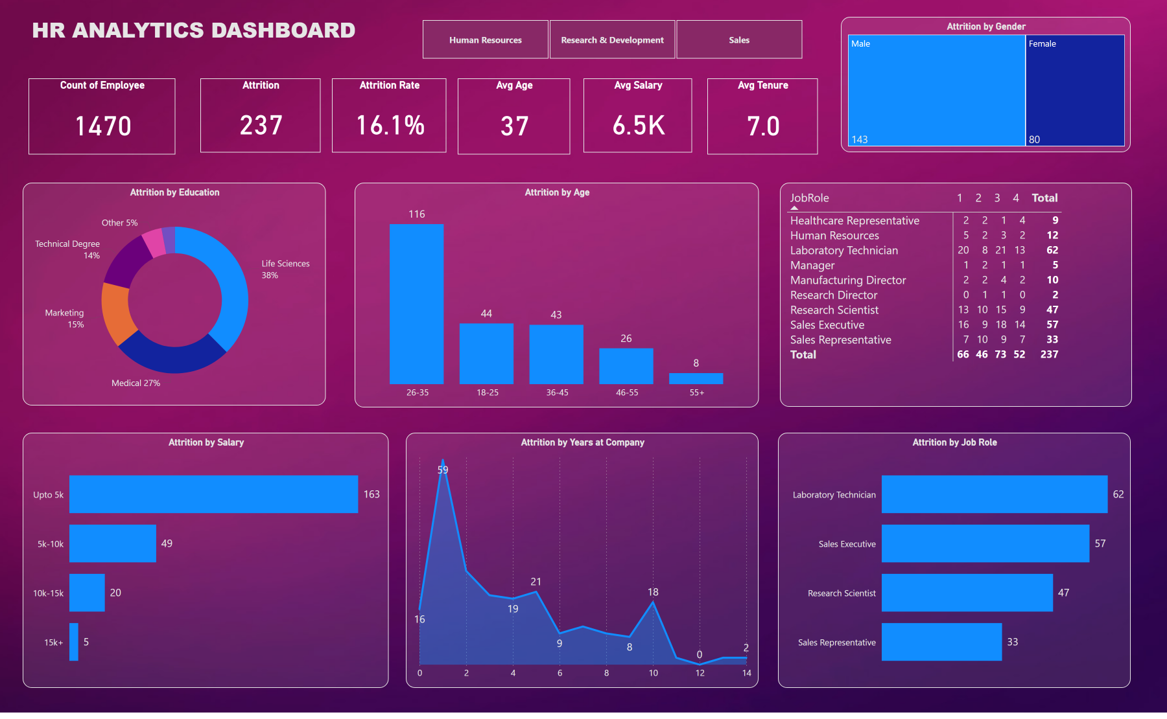

Layout of this report page (visuals, bound fields, positions):
{"tool":"powerbi","page":{"name":"Page 1","canvas":[1800,1100],"ordinal":0},"visuals":[{"type":"card","title":"Count of Employee","fields":{"Values":["CountNonNull(HR_Analytics.EmpID)"]},"box":[44.1,120.6,226.5,117.6],"z":0},{"type":"card","title":"Attrition","fields":{"Values":["Sum(HR_Analytics.AttritionCount)"]},"box":[308.8,120.6,185.3,114.7],"z":1000},{"type":"card","title":"Avg Age","fields":{"Values":["Avg(HR_Analytics.Age)"]},"box":[705.9,120.6,173.5,117.6],"z":2000},{"type":"card","title":"Attrition Rate","fields":{"Values":["HR_Analytics.Attrition rate"]},"box":[511.8,120.6,176.5,114.7],"z":3000},{"type":"card","title":"Avg Salary","fields":{"Values":["Avg(HR_Analytics.MonthlyIncome)"]},"box":[900,120.6,167.6,114.7],"z":4000},{"type":"card","title":"Avg Tenure","fields":{"Values":["Avg(HR_Analytics.YearsAtCompany)"]},"box":[1091.2,120.6,170.6,117.6],"z":5000},{"type":"donutChart","title":"Attrition by Education","fields":{"Category":["HR_Analytics.EducationField"],"Y":["Sum(HR_Analytics.AttritionCount)"]},"box":[35.3,282.4,467.6,344.1],"z":6000},{"type":"columnChart","title":"Attrition by Age","fields":{"Category":["HR_Analytics.AgeGroup"],"Y":["Sum(HR_Analytics.AttritionCount)"]},"box":[547.1,282.4,623.5,347.1],"z":7000},{"type":"pivotTable","fields":{"Rows":["HR_Analytics.JobRole"],"Columns":["HR_Analytics.JobSatisfaction"],"Values":["Sum(HR_Analytics.AttritionCount)"]},"box":[1202.8,281.8,543,345.9],"z":8000},{"type":"barChart","title":"Attrition by Salary","fields":{"Category":["HR_Analytics.SalarySlab"],"Y":["Sum(HR_Analytics.AttritionCount)"]},"box":[35.3,667.6,564.7,394.1],"z":9000},{"type":"clusteredBarChart","title":"Attrition by Job Role","fields":{"Category":["HR_Analytics.JobRole"],"Y":["Sum(HR_Analytics.AttritionCount)"]},"box":[1200,667.6,544.1,394.1],"z":10000},{"type":"areaChart","title":"Attrition by Years at Company","fields":{"Category":["HR_Analytics.YearsAtCompany"],"Y":["Sum(HR_Analytics.AttritionCount)"]},"box":[626.5,667.6,544.1,394.1],"z":11000},{"type":"treemap","title":"Attrition by Gender","fields":{"Values":["Sum(HR_Analytics.AttritionCount)"],"Group":["HR_Analytics.Gender"]},"box":[1297.1,26.5,447.1,208.8],"z":12000},{"type":"slicer","fields":{"Values":["HR_Analytics.Department"]},"box":[626.5,23.5,635.3,73.5],"z":13000},{"type":"textbox","box":[44.1,17.6,582.4,79.4],"z":14000}]}

Visuals, with their boxes in screenshot pixels (x1, y1, x2, y2), scaled from the page's 1800x1100 canvas onto the 1167x719 screenshot:
"Count of Employee" card: 29, 79, 175, 156
"Attrition" card: 200, 79, 320, 154
"Avg Age" card: 458, 79, 570, 156
"Attrition Rate" card: 332, 79, 446, 154
"Avg Salary" card: 584, 79, 692, 154
"Avg Tenure" card: 707, 79, 818, 156
"Attrition by Education" donutChart: 23, 185, 326, 410
"Attrition by Age" columnChart: 355, 185, 759, 411
pivotTable - HR_Analytics.JobRole x HR_Analytics.JobSatisfaction: 780, 184, 1132, 410
"Attrition by Salary" barChart: 23, 436, 389, 694
"Attrition by Job Role" clusteredBarChart: 778, 436, 1131, 694
"Attrition by Years at Company" areaChart: 406, 436, 759, 694
"Attrition by Gender" treemap: 841, 17, 1131, 154
slicer - HR_Analytics.Department: 406, 15, 818, 63
textbox: 29, 12, 406, 63
